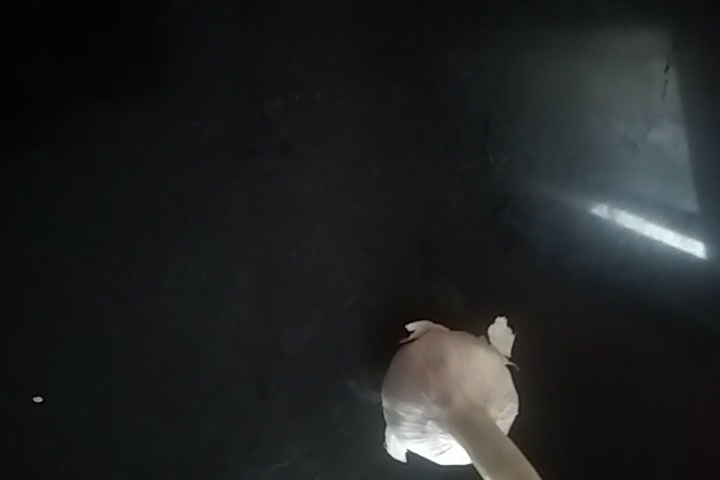garlic: (375, 313, 558, 480)
